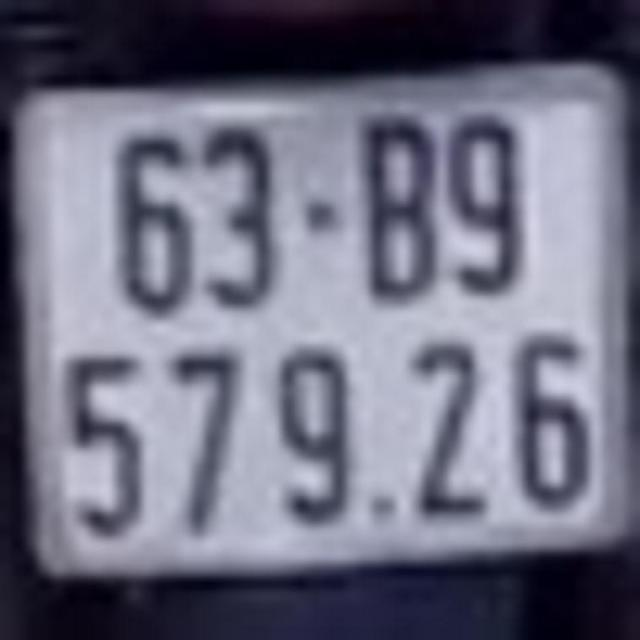2: (400, 330, 493, 527)
3: (202, 121, 281, 306)
5: (56, 349, 148, 544)
6: (506, 318, 600, 510), (107, 128, 197, 315)
7: (164, 344, 238, 544)
9: (267, 338, 356, 529), (446, 113, 525, 296)
B: (356, 108, 440, 300)
